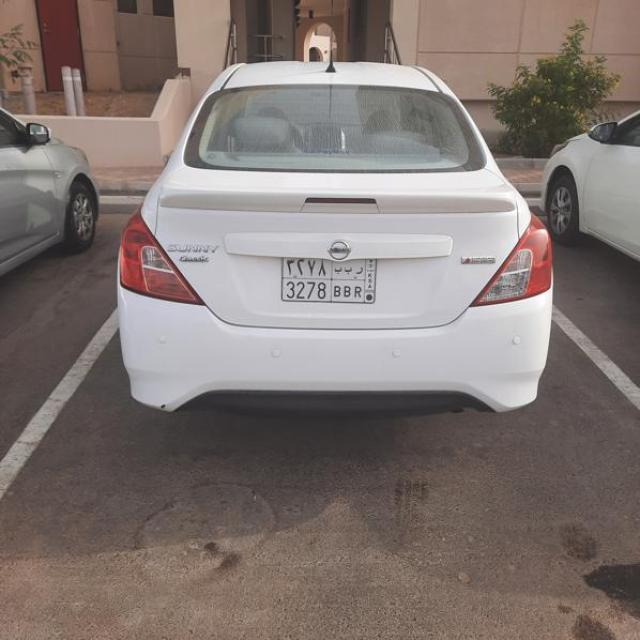license_plate: (279, 254, 379, 305)
